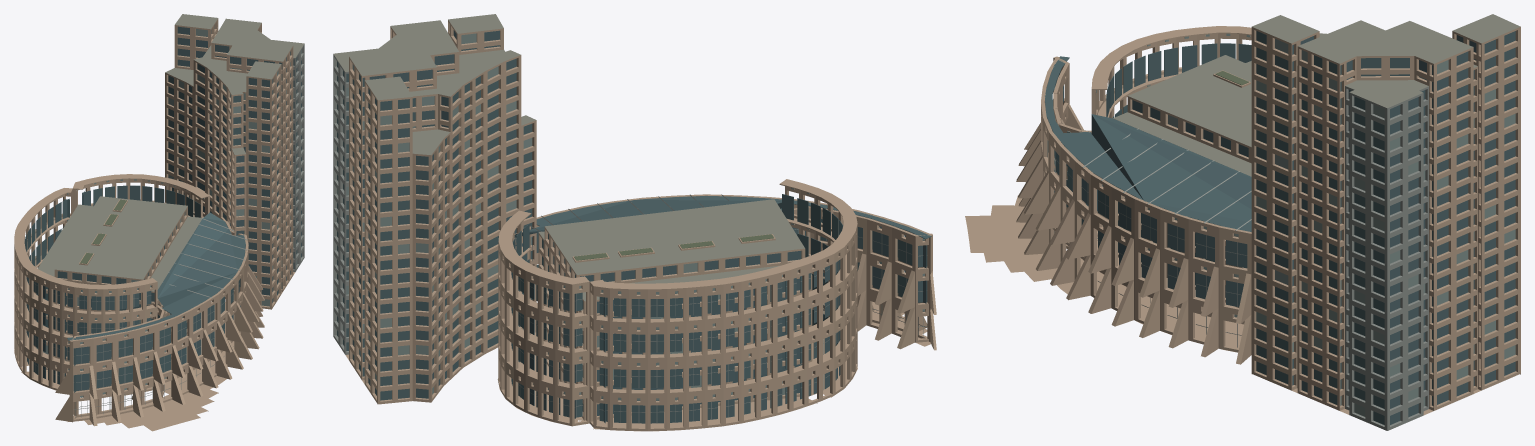
Rendered from vancouver-public-library-near.glb.
3 renders of one model, left to right at view 1: azimuth 30°, elevation 25°; view 2: azimuth 150°, elevation 25°; view 3: azimuth 270°, elevation 25°, orthographic. The views are drawn at different scales.
Visible parts, largest first — view 1: vancouver-public-library-0-stone, vancouver-public-library-0-glass, vancouver-public-library-0-roof, vancouver-public-library-0-frame, vancouver-public-library-0-glow, vancouver-public-library-0-garden; view 2: vancouver-public-library-0-stone, vancouver-public-library-0-glass, vancouver-public-library-0-roof, vancouver-public-library-0-frame, vancouver-public-library-0-glow, vancouver-public-library-0-garden; view 3: vancouver-public-library-0-stone, vancouver-public-library-0-glass, vancouver-public-library-0-frame, vancouver-public-library-0-roof, vancouver-public-library-0-glow.
Boxes of the visible parts, box(x1,y1,x2,y2) form: vancouver-public-library-0-stone: box(14, 18, 294, 431); vancouver-public-library-0-glass: box(24, 25, 301, 392); vancouver-public-library-0-roof: box(38, 14, 304, 291); vancouver-public-library-0-frame: box(33, 44, 304, 417); vancouver-public-library-0-glow: box(36, 29, 301, 397); vancouver-public-library-0-garden: box(80, 199, 126, 263); vancouver-public-library-0-stone: box(345, 20, 936, 431); vancouver-public-library-0-glass: box(337, 30, 931, 423); vancouver-public-library-0-roof: box(333, 14, 811, 301); vancouver-public-library-0-frame: box(333, 54, 927, 423); vancouver-public-library-0-glow: box(337, 33, 924, 411); vancouver-public-library-0-garden: box(574, 234, 773, 260); vancouver-public-library-0-stone: box(965, 26, 1520, 415); vancouver-public-library-0-glass: box(1045, 31, 1515, 424); vancouver-public-library-0-frame: box(1054, 86, 1428, 430); vancouver-public-library-0-roof: box(1113, 14, 1520, 176); vancouver-public-library-0-glow: box(1049, 33, 1515, 416).
Bounding box in the file's own units: 138 × 86 × 124.
